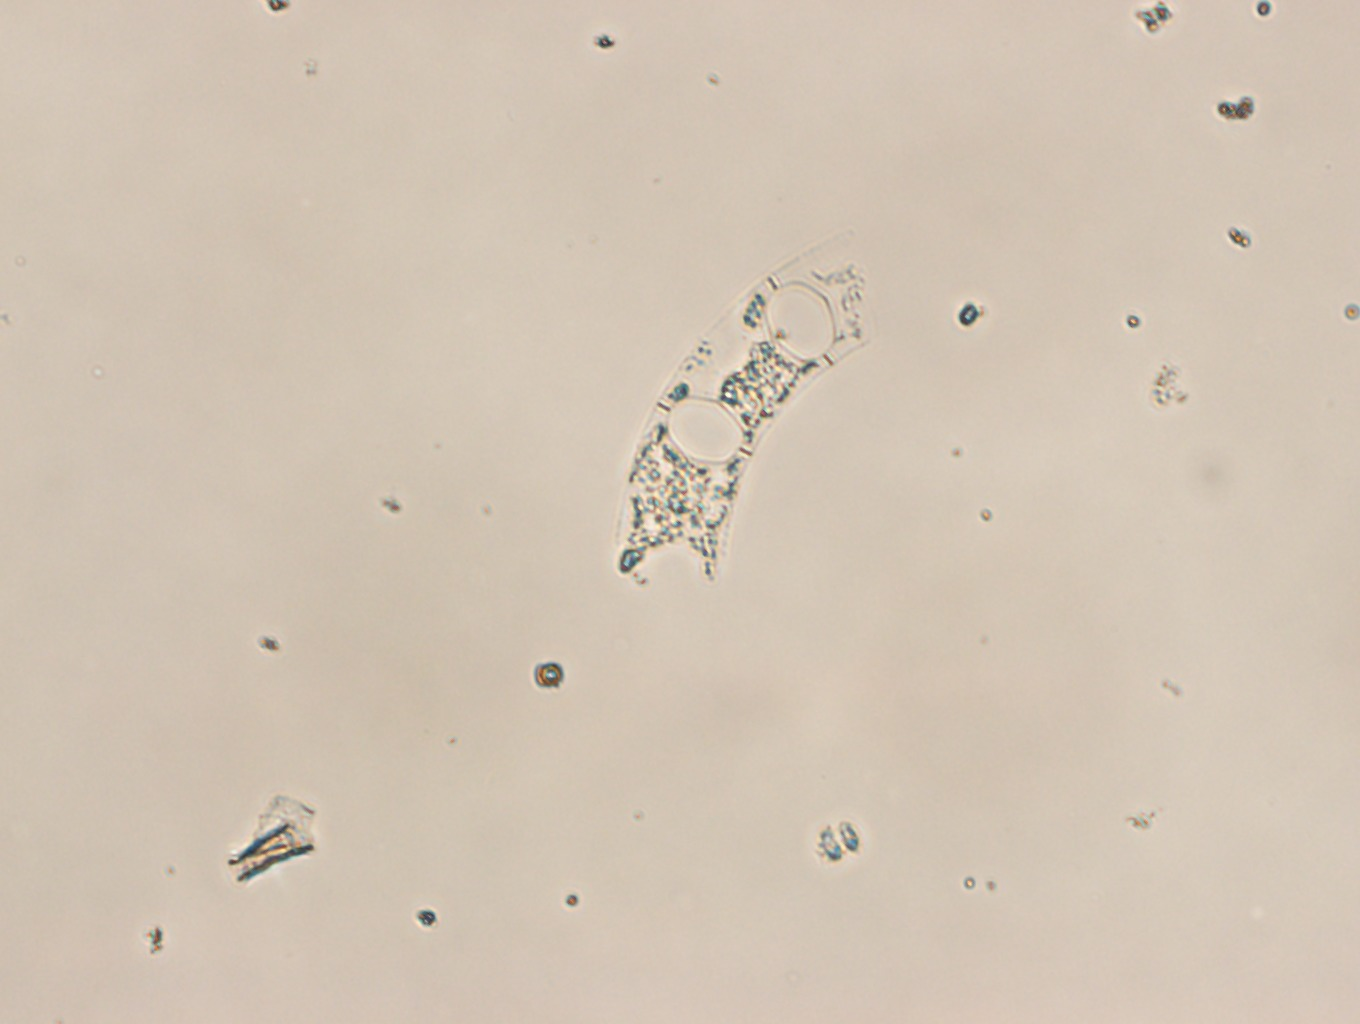eucampia: (613, 229, 879, 593)
